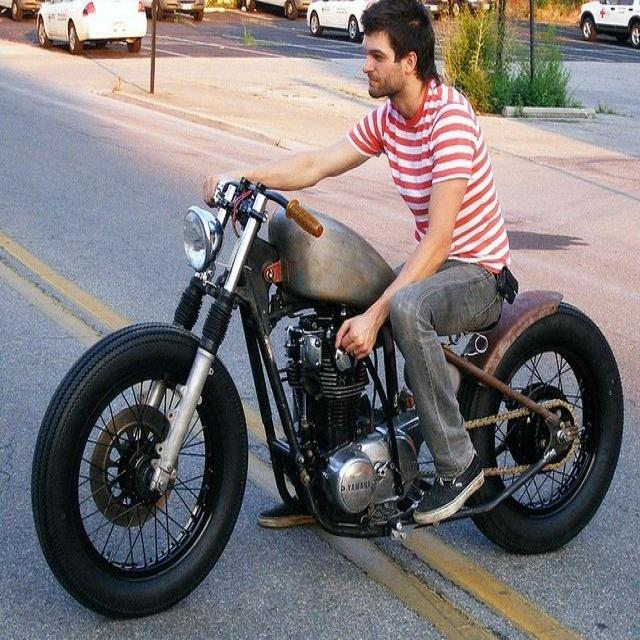Not Wearing Helmet: (309, 0, 497, 163)
